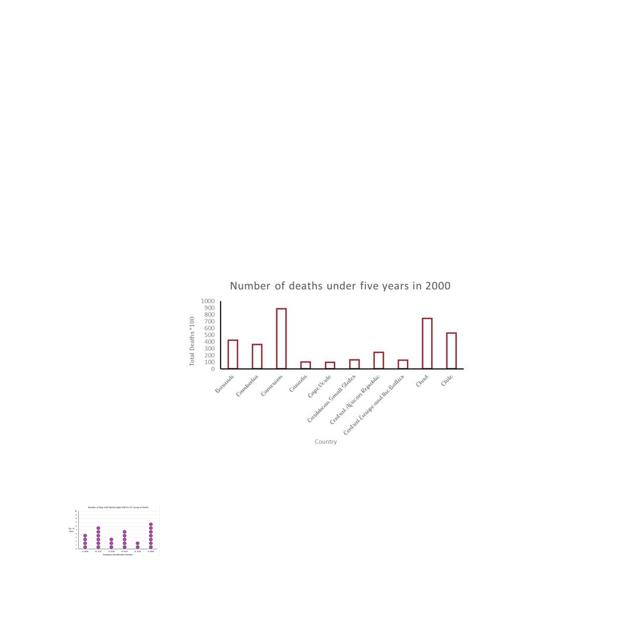Graph: (182, 272, 471, 454), (66, 505, 160, 557)
